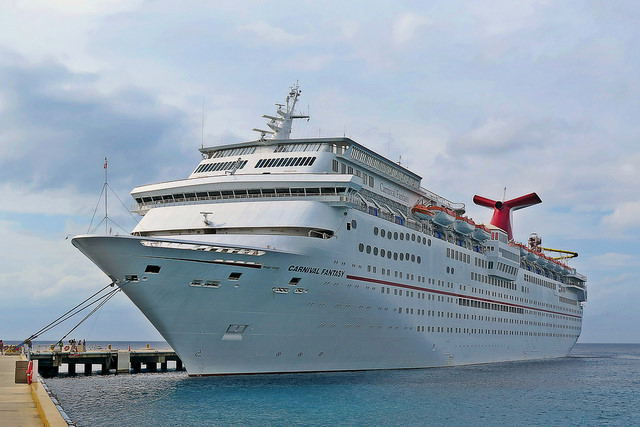cruise_ship: (68, 80, 593, 371)
